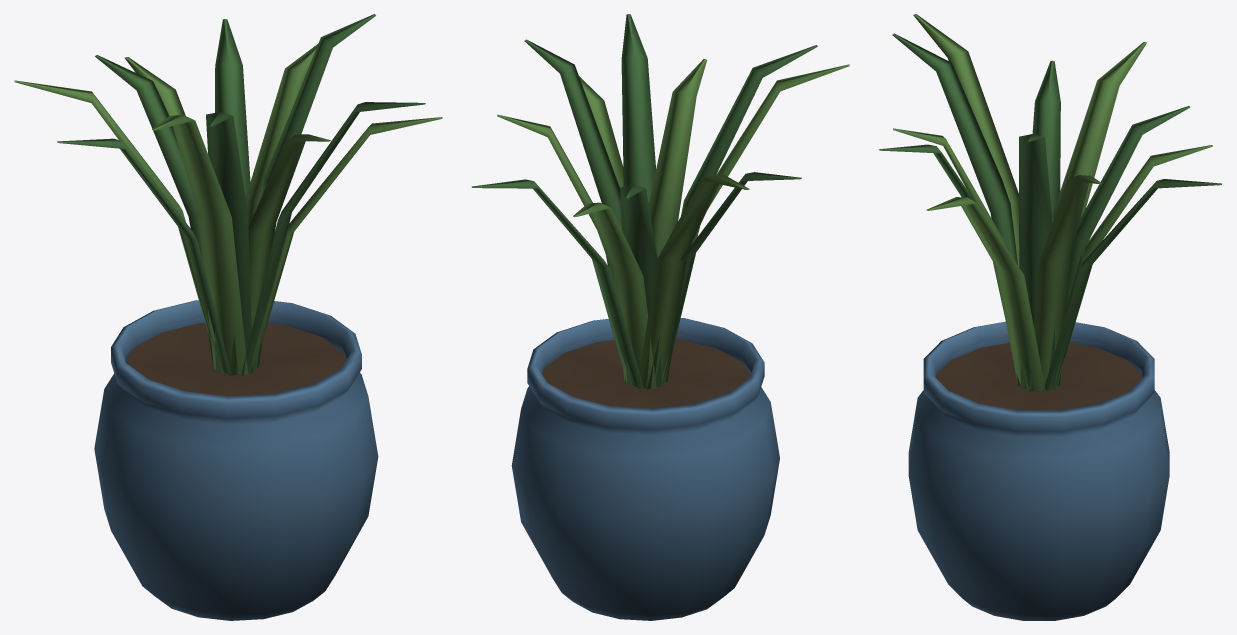
File: PotB.fbx
The picture shows the model from 3 angles, left to right: view 1: azimuth 30°, elevation 25°; view 2: azimuth 150°, elevation 25°; view 3: azimuth 270°, elevation 25°; orthographic projection. The views are drawn at different scales.
Parts seen in each view (by area): view 1: PotB; view 2: PotB; view 3: PotB.
Part boxes in pixels (<box>): PotB: <box>14,14,442,620</box>; PotB: <box>471,14,849,620</box>; PotB: <box>879,14,1221,620</box>.
Size of the model in its own units: 0.5564 by 0.9035 by 0.5554.
